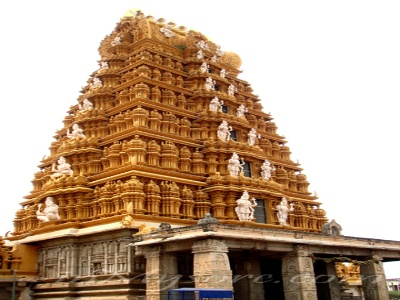gopura: (26, 17, 344, 222)
mandapa: (135, 226, 398, 294)
